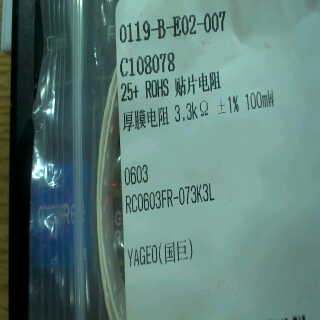3.3kO: (170, 98, 210, 130)
